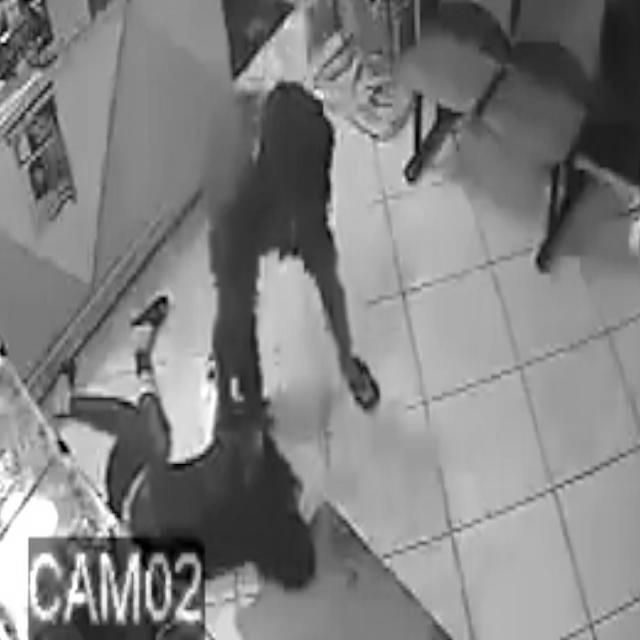weapon: (244, 467, 248, 488)
